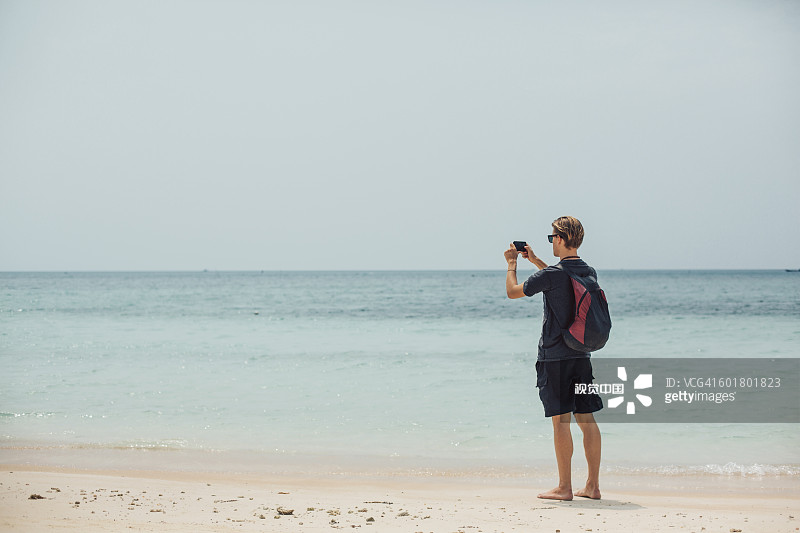taking photos: (498, 235, 541, 269)
